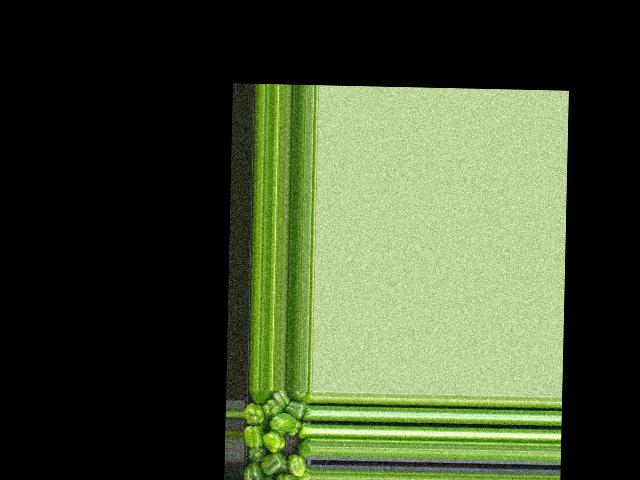bell_pepper: (254, 389, 273, 404)
